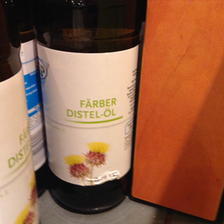oil: (35, 1, 142, 215)
